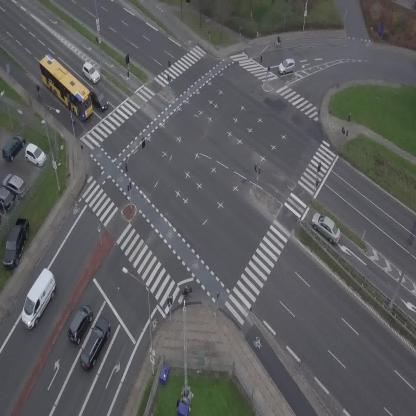bicycle: (179, 285, 195, 300), (35, 84, 42, 98), (273, 35, 281, 46)
bus: (31, 51, 102, 122)
car: (75, 315, 116, 373), (62, 302, 97, 346), (306, 209, 346, 246), (86, 86, 111, 114), (78, 61, 103, 86), (276, 57, 298, 76)
lorry: (12, 267, 64, 332)
